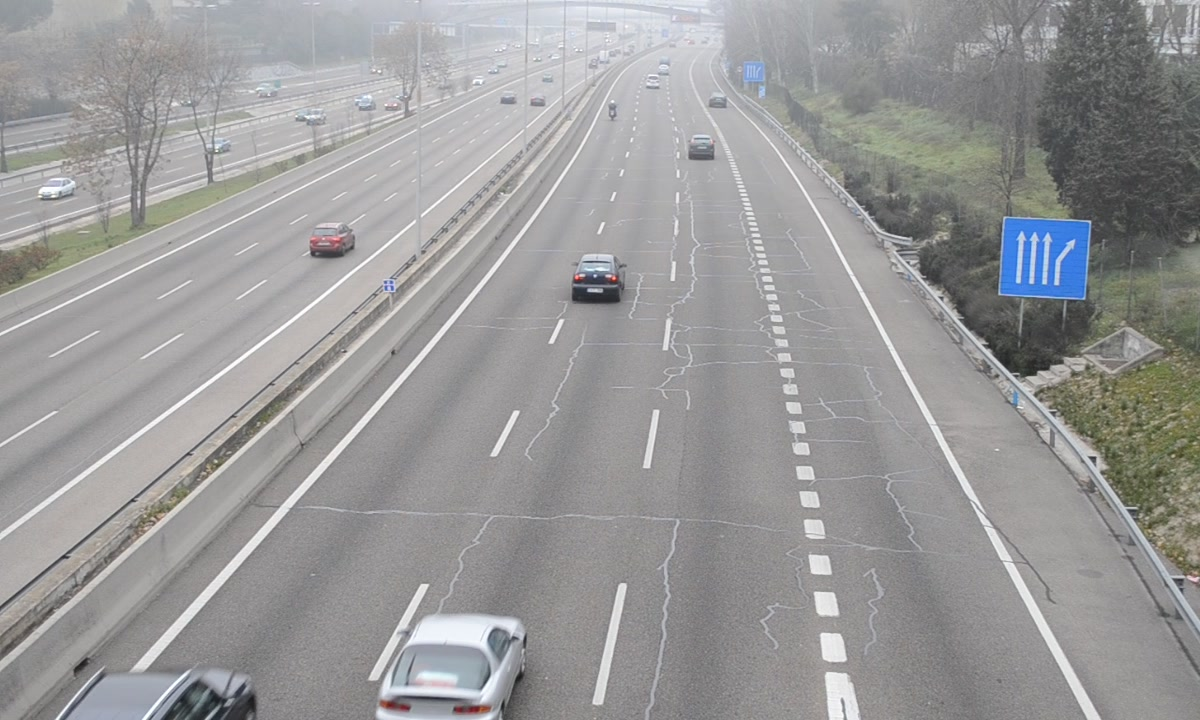car: (375, 614, 526, 720), (572, 254, 627, 303), (689, 133, 716, 161)
motorcycle: (608, 99, 618, 122)
